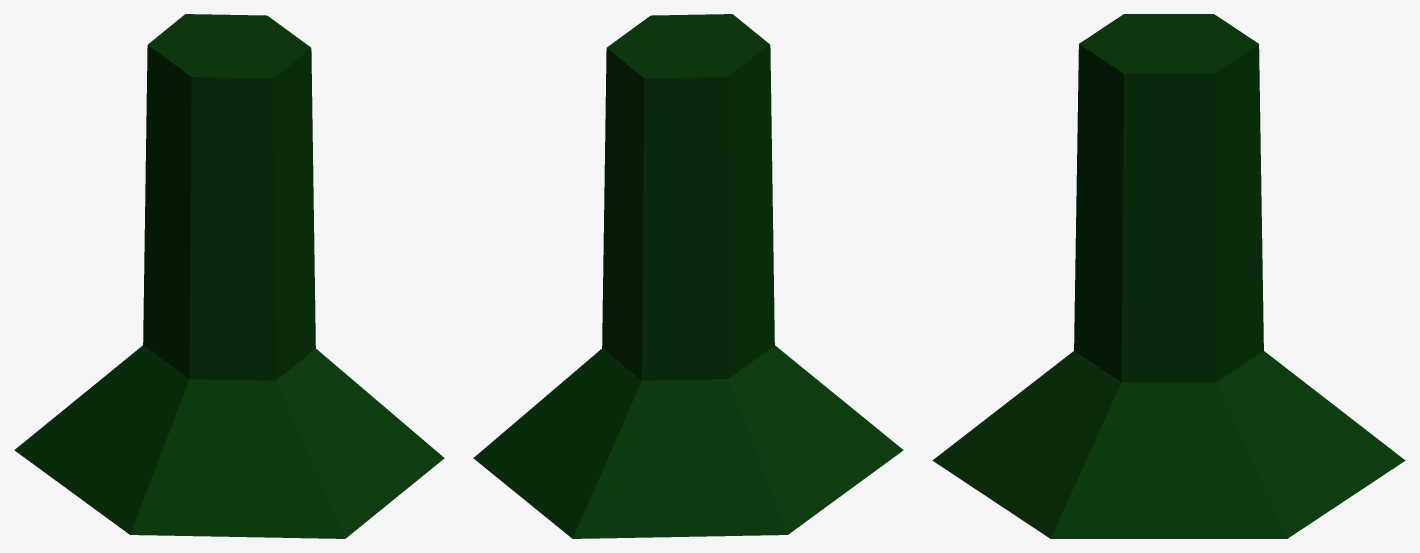
File: chiliStem.obj
3 renders of one model, left to right at view 1: azimuth 30°, elevation 25°; view 2: azimuth 150°, elevation 25°; view 3: azimuth 270°, elevation 25°, orthographic. The views are drawn at different scales.
Visible parts, largest first — view 1: carrotBody.001; view 2: carrotBody.001; view 3: carrotBody.001.
Part boxes in pixels (x1=…): carrotBody.001: x1=14, y1=14, x2=444, y2=538; carrotBody.001: x1=473, y1=14, x2=903, y2=538; carrotBody.001: x1=932, y1=14, x2=1405, y2=538.
Bounding box in the file's own units: 0.0454 × 0.0562 × 0.0578.
